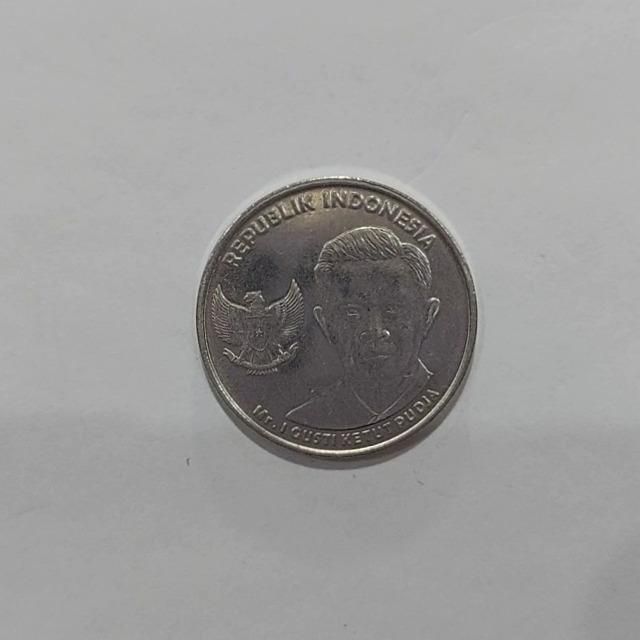Rp100: (194, 171, 479, 467), (279, 222, 444, 432)
